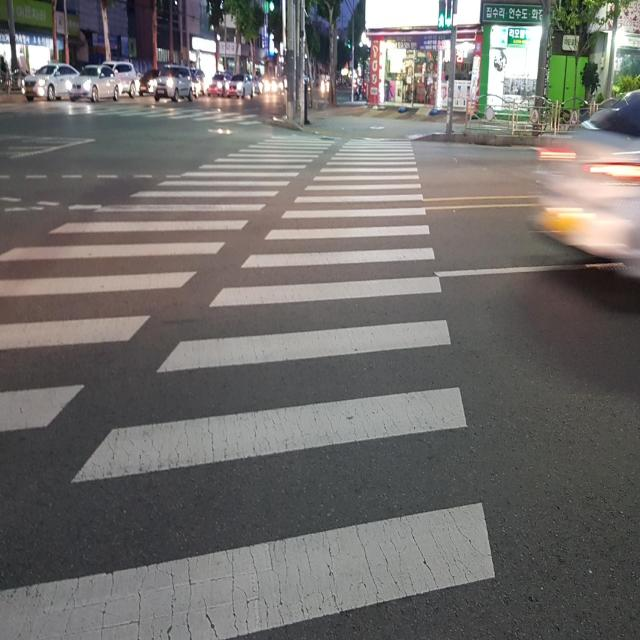초록불: (267, 0, 277, 36)
횡단보도: (0, 127, 500, 640)
